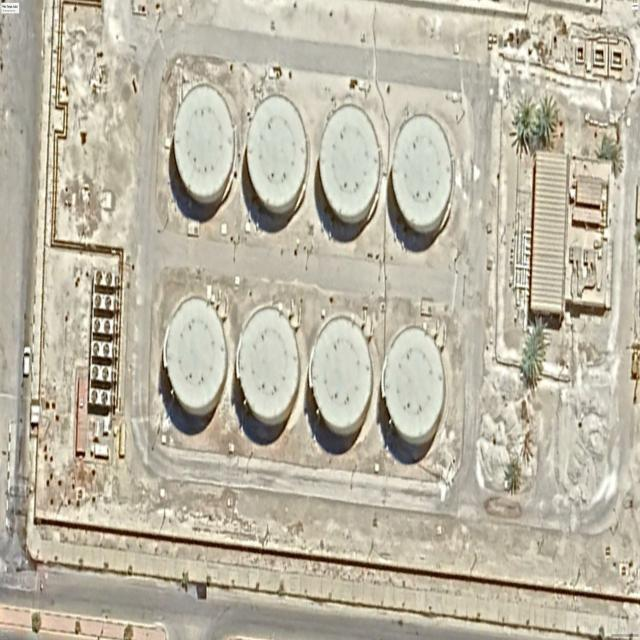Oil Rafinery: (246, 95, 309, 219), (163, 296, 228, 416), (309, 316, 373, 436), (381, 326, 445, 445), (319, 105, 381, 225), (236, 307, 299, 425), (392, 115, 453, 234), (174, 85, 235, 203)
